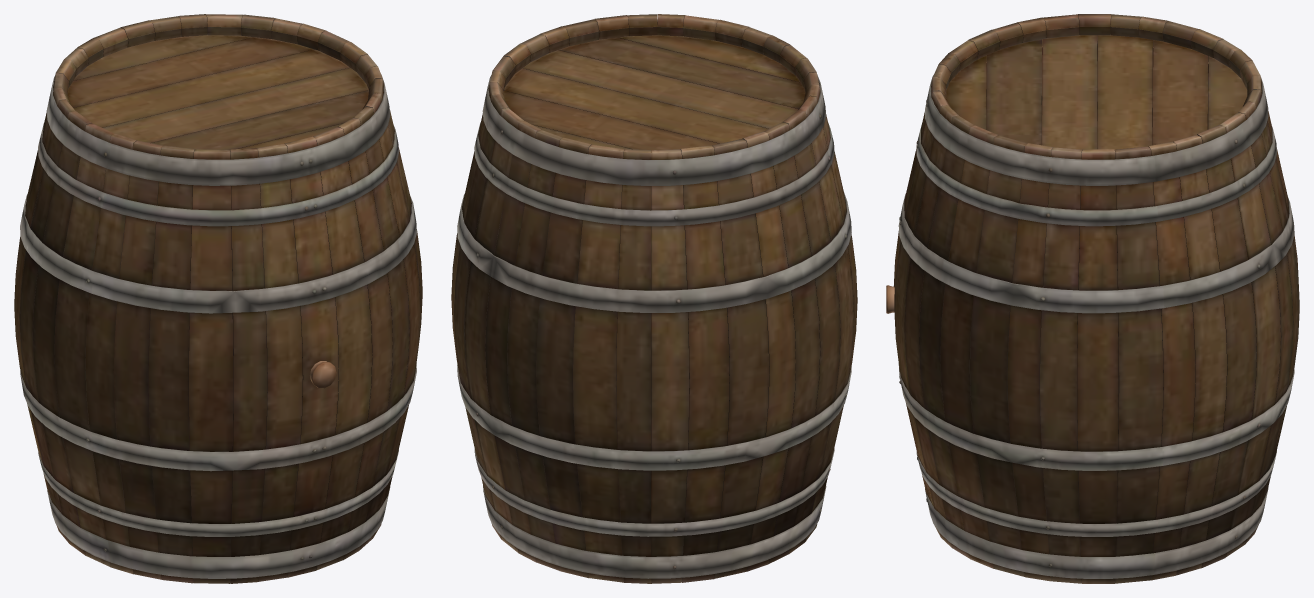
File: wine_barrel_01.glb
The picture shows the model from 3 angles, left to right: view 1: azimuth 30°, elevation 25°; view 2: azimuth 150°, elevation 25°; view 3: azimuth 270°, elevation 25°; orthographic projection.
Visible parts, largest first — view 1: wine_barrel_01, wine_barrel_01_Lid, wine_barrel_01_bung; view 2: wine_barrel_01, wine_barrel_01_Lid; view 3: wine_barrel_01, wine_barrel_01_Lid.
Part boxes in pixels (left/top/right/bottom): wine_barrel_01: left=14, top=14, right=422, bottom=583; wine_barrel_01_Lid: left=67, top=35, right=368, bottom=149; wine_barrel_01_bung: left=310, top=361, right=336, bottom=388; wine_barrel_01: left=451, top=14, right=857, bottom=583; wine_barrel_01_Lid: left=503, top=35, right=805, bottom=152; wine_barrel_01: left=893, top=14, right=1299, bottom=583; wine_barrel_01_Lid: left=946, top=35, right=1247, bottom=149.
Size of the model in its own units: 0.7419 by 0.8713 by 0.7554.
Materials: 1 (1 with a texture image).
